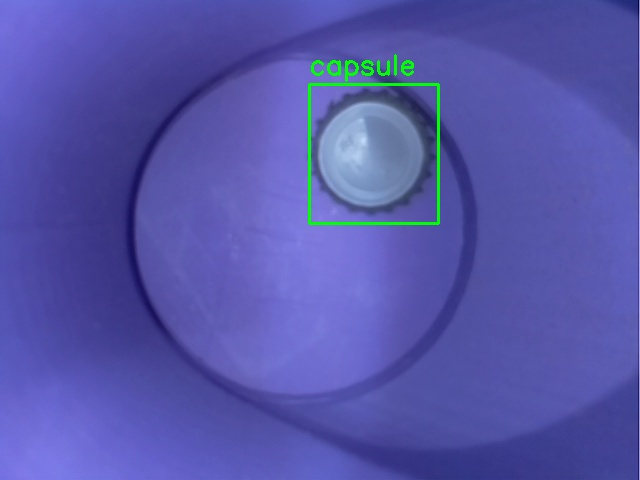capsule: (309, 84, 438, 223)
